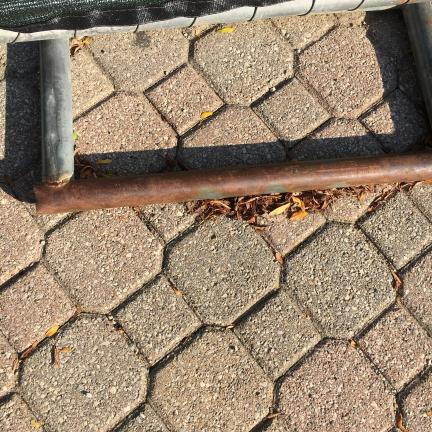besi_tidak_karat: (0, 0, 430, 43), (37, 38, 74, 212)
karat: (34, 153, 431, 214)
